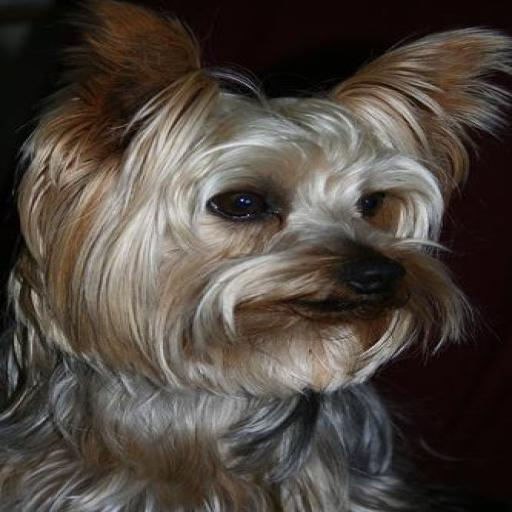dog_face: (65, 7, 484, 392)
